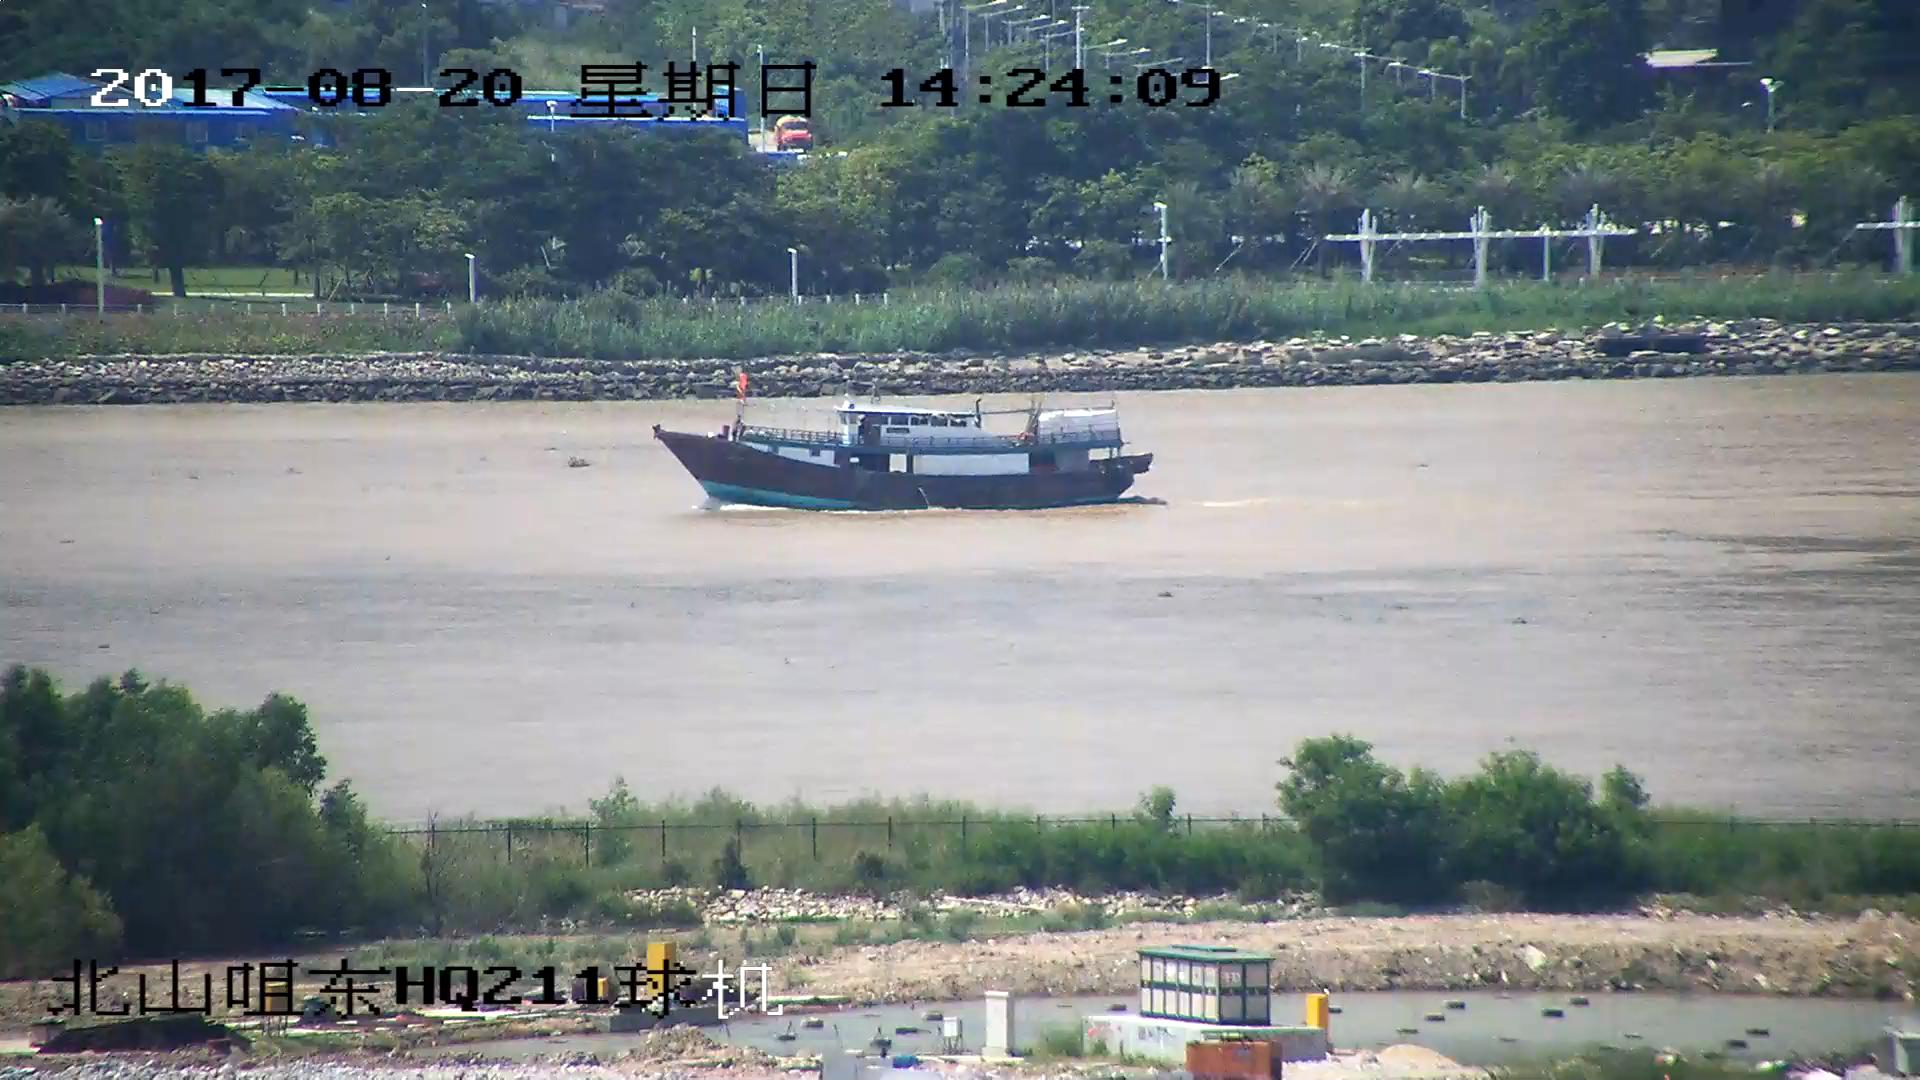fishing boat: (654, 397, 1154, 512)
